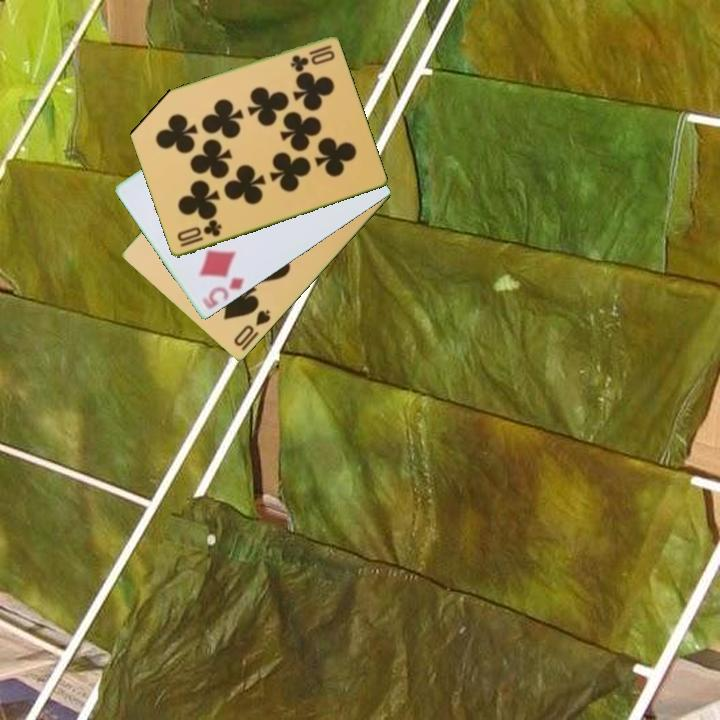10c: (173, 217, 224, 250), (287, 42, 337, 74)
10s: (230, 307, 274, 350)
5d: (198, 274, 247, 312)
